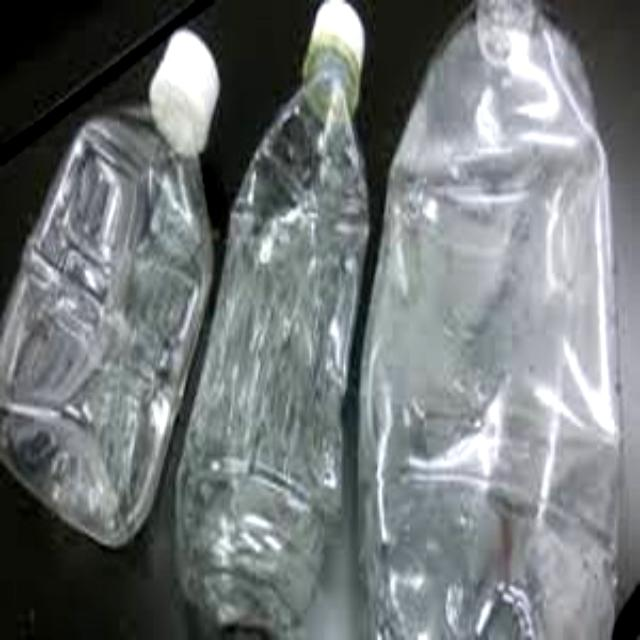Plastic: (371, 0, 631, 640)
